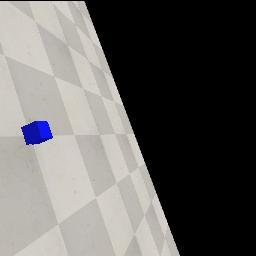box: (21, 121, 53, 145)
